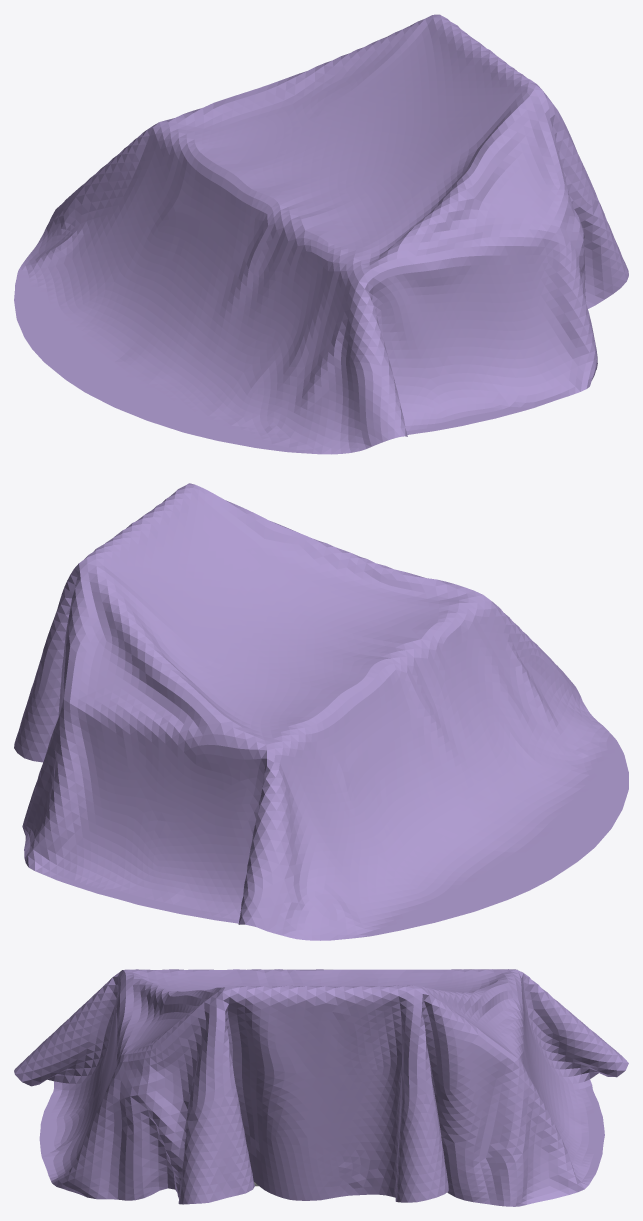
The model's file is level_2.glb.
3 renders of one model, top to bottom at view 1: azimuth 30°, elevation 25°; view 2: azimuth 150°, elevation 25°; view 3: azimuth 270°, elevation 25°, orthographic. The views are drawn at different scales.
Parts seen in each view (by area): view 1: world; view 2: world; view 3: world.
Part boxes in pixels (x1,y1,x2,y2): world: [14, 14, 628, 454]; world: [14, 483, 628, 940]; world: [14, 969, 628, 1206].
Bounding box in the file's own units: 0.4385 × 0.1907 × 0.4908.
